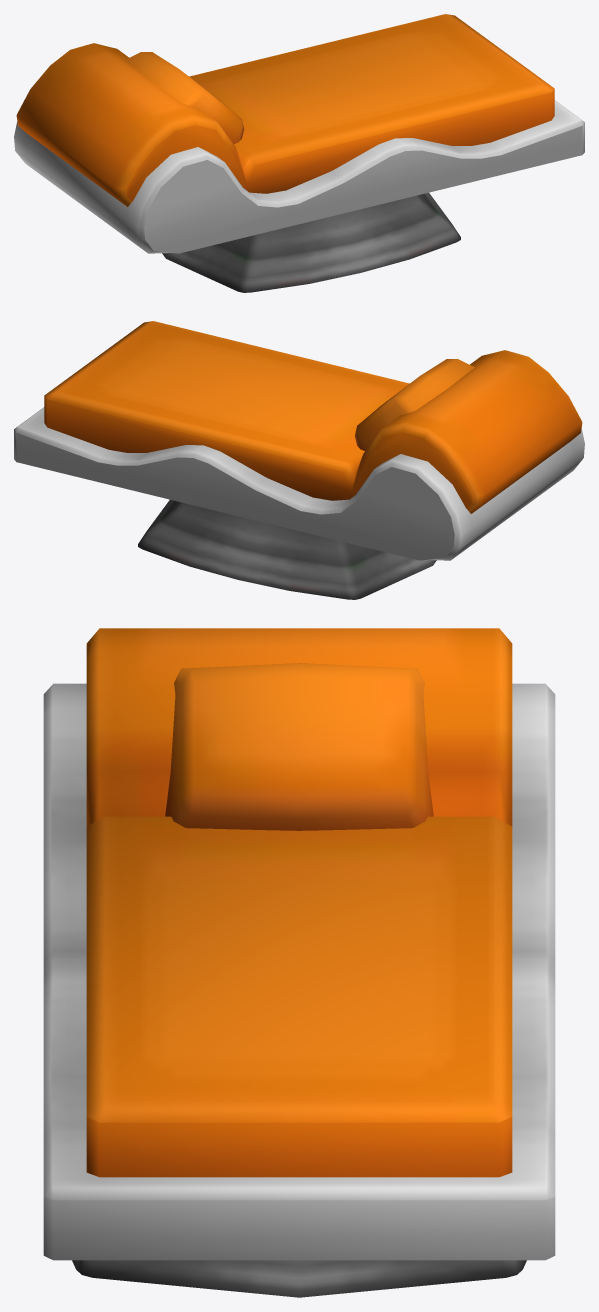
File: rmk_fut_bedS.dae
3 renders of one model, top to bottom at view 1: azimuth 30°, elevation 25°; view 2: azimuth 150°, elevation 25°; view 3: azimuth 270°, elevation 25°, orthographic. The views are drawn at different scales.
Visible parts, largest first — view 1: rmk_fut_bedS; view 2: rmk_fut_bedS; view 3: rmk_fut_bedS.
Boxes of the visible parts, x1,y1,x2,y2 form: rmk_fut_bedS: (14,14,584,292); rmk_fut_bedS: (14,321,584,599); rmk_fut_bedS: (43,628,555,1297).
Size of the model in its own units: 62.37 by 24.64 by 30.22.
Materials: 1 (1 with a texture image).
